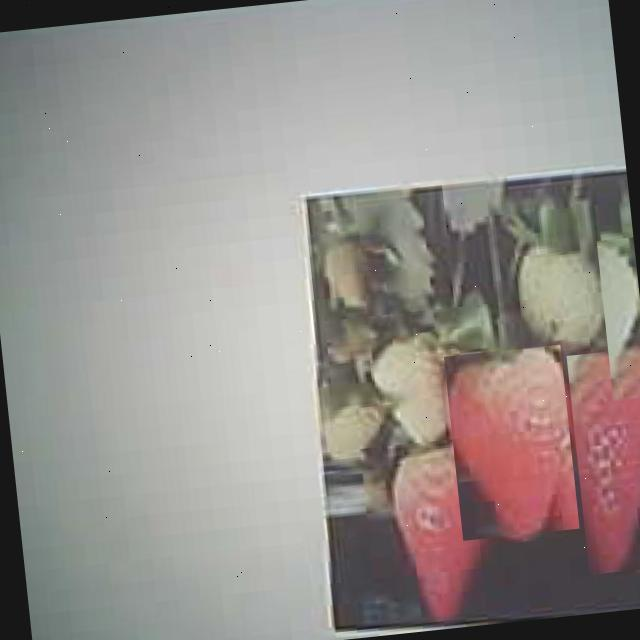ripe: (444, 344, 580, 540), (566, 347, 640, 574)
unripe: (512, 236, 610, 354), (368, 326, 451, 450), (314, 367, 388, 465), (596, 237, 640, 400)
